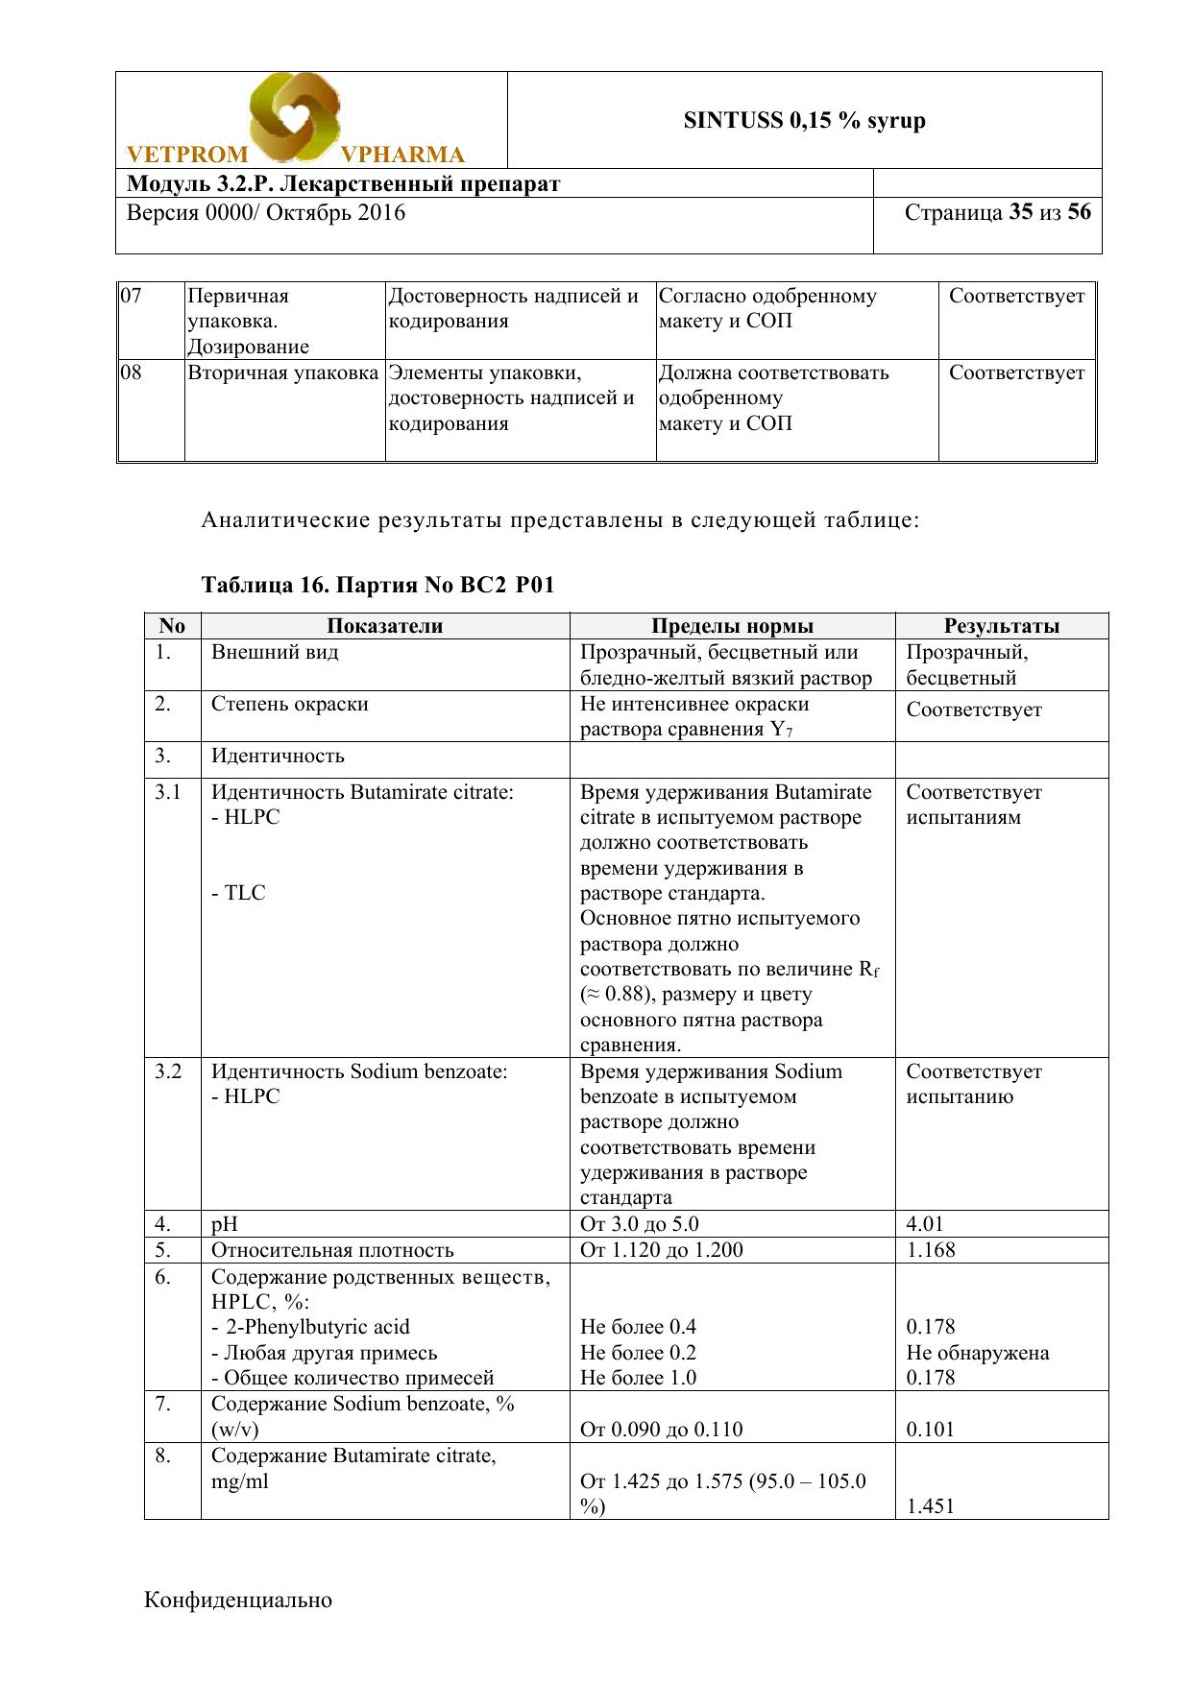full_lined: (143, 612, 1109, 1521), (115, 280, 1099, 464)
merged_cells: (114, 70, 1103, 255)
